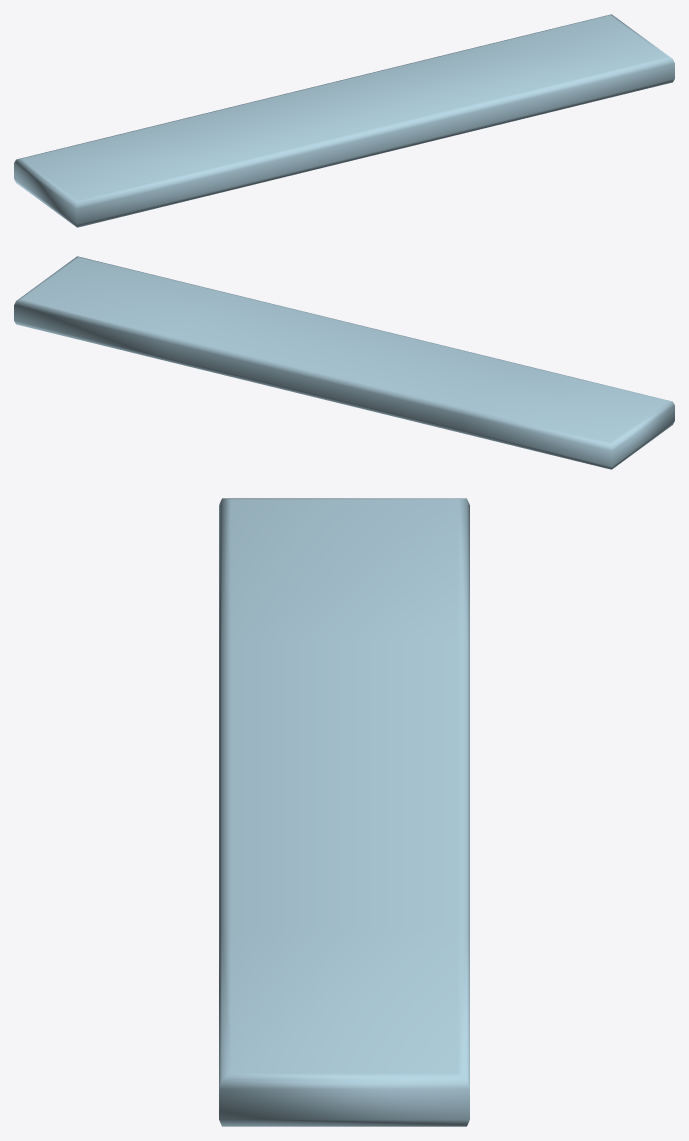
Rendered from Plank_TX.fbx.
3 views of the same model, one above another, from view 1: azimuth 30°, elevation 25°; view 2: azimuth 150°, elevation 25°; view 3: azimuth 270°, elevation 25° (orthographic). The views are drawn at different scales.
Parts seen in each view (by area): view 1: Plank1; view 2: Plank1; view 3: Plank1.
Part boxes in pixels (x1=…): Plank1: x1=14, y1=14, x2=674, y2=227; Plank1: x1=14, y1=256, x2=674, y2=469; Plank1: x1=219, y1=498, x2=469, y2=1126.
Bounding box in the file's own units: 17.21 × 0.7166 × 3.13.
